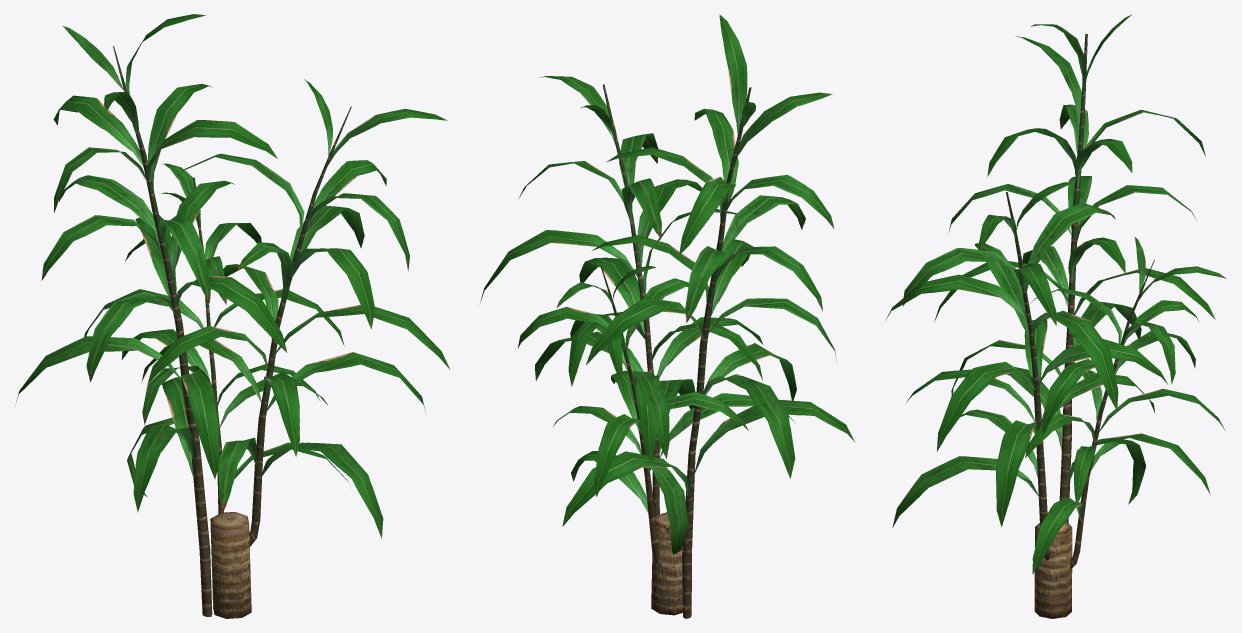
File: yucca.obj
3 renders of one model, left to right at view 1: azimuth 30°, elevation 25°; view 2: azimuth 150°, elevation 25°; view 3: azimuth 270°, elevation 25°, orthographic. The views are drawn at different scales.
Visible parts, largest first — view 1: Yucca; view 2: Yucca; view 3: Yucca.
Part boxes in pixels (x1,y1,x2,y2): Yucca: (15,14,450,618); Yucca: (480,14,855,618); Yucca: (885,14,1226,618).
Size of the model in its own units: 3.46 by 5.8 by 3.17.
Materials: 1 (1 with a texture image).
